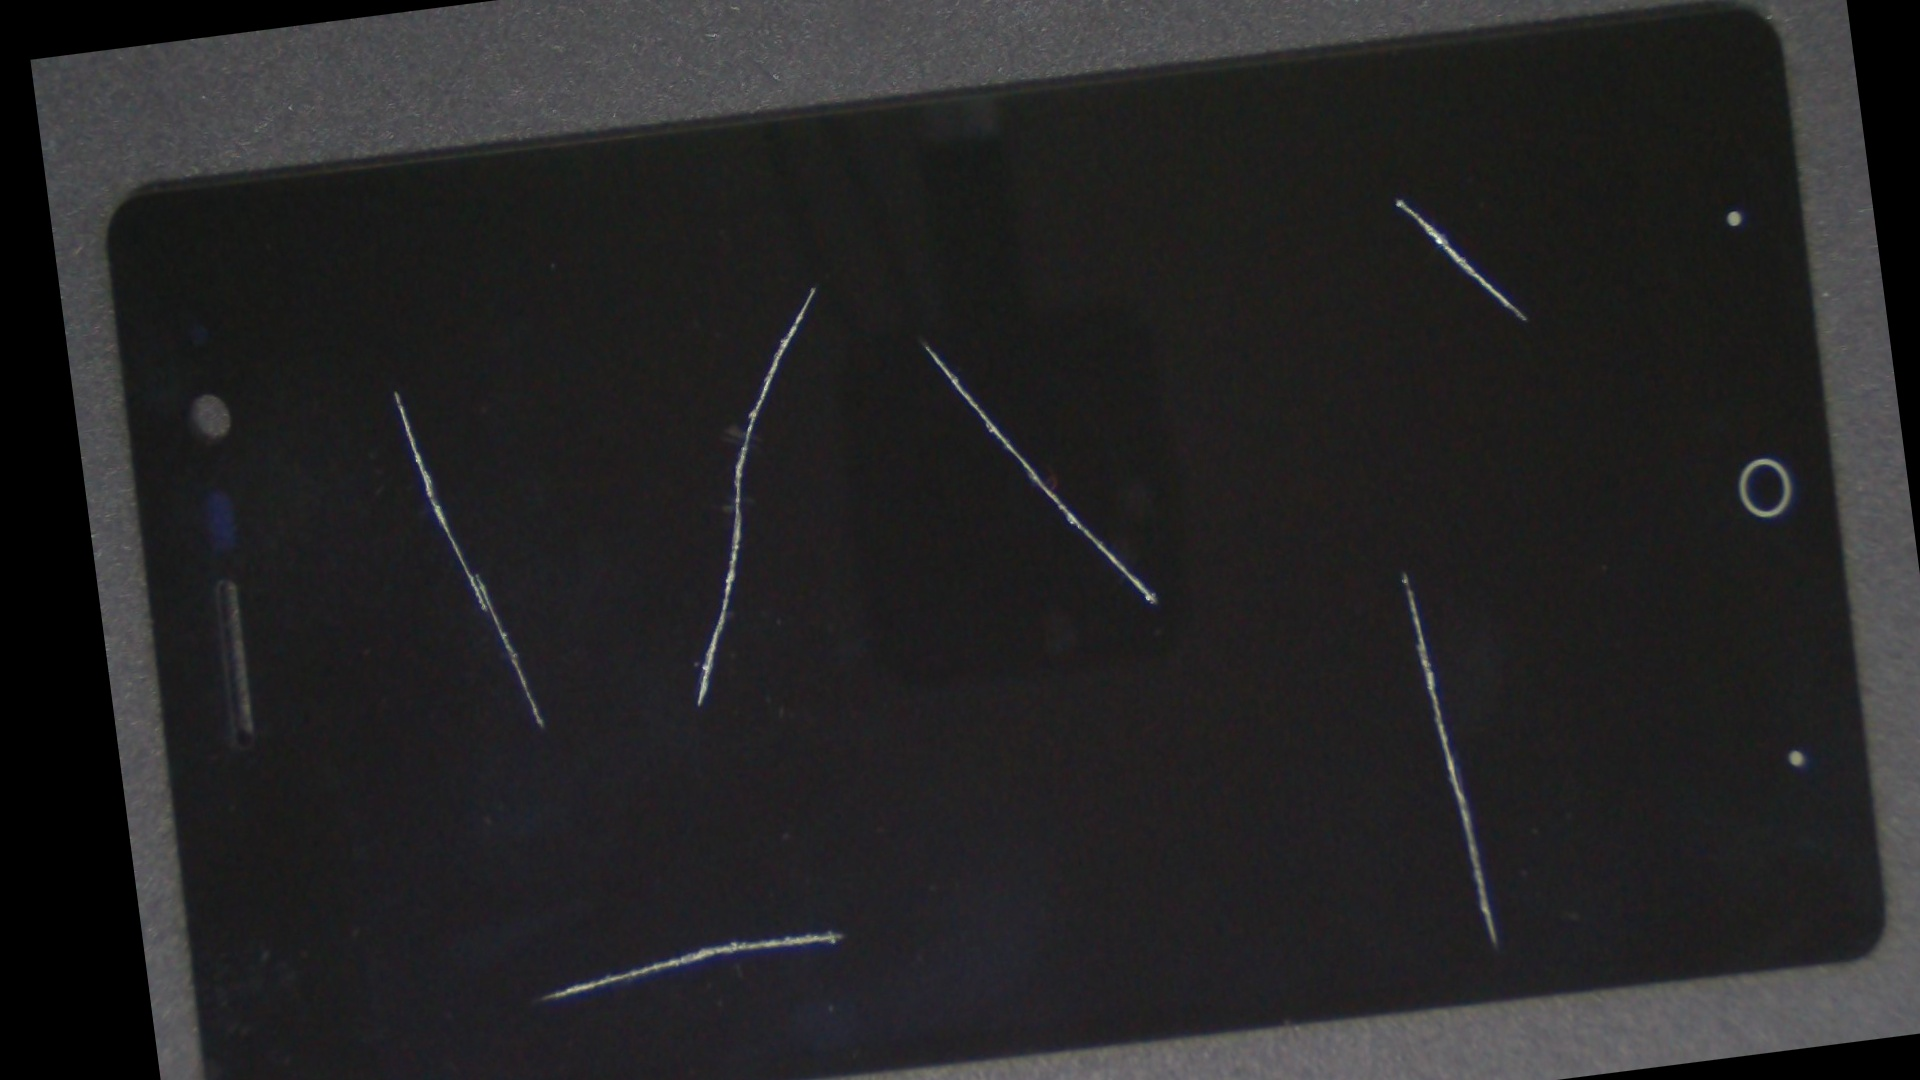oil: (716, 166, 1920, 988), (715, 0, 1884, 435), (476, 92, 1367, 589), (382, 425, 1054, 1080), (423, 76, 1205, 493), (214, 183, 579, 595)
